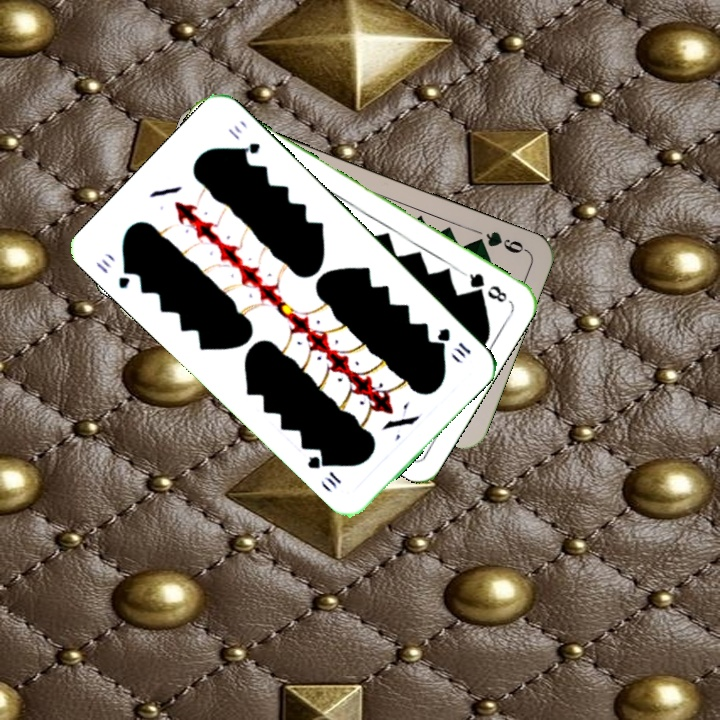G10: (91, 254, 137, 291), (432, 324, 474, 360)
G8: (459, 268, 510, 305)
G9: (469, 227, 530, 256)
